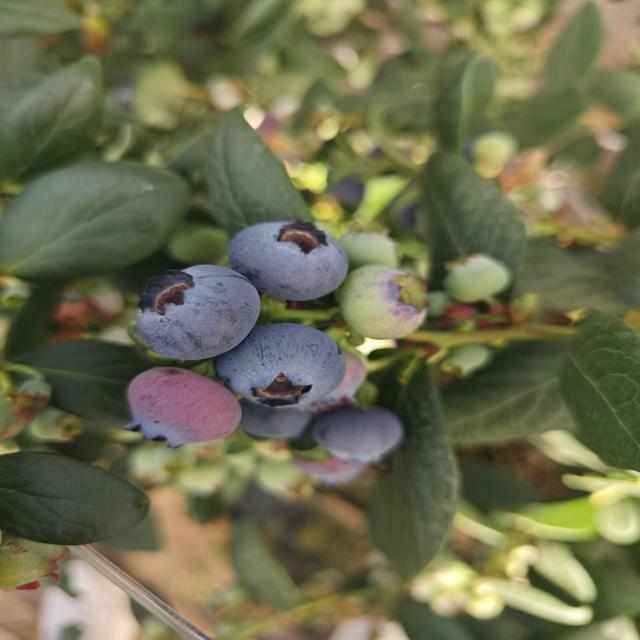ripe: (130, 266, 263, 361), (216, 324, 346, 410), (112, 364, 244, 448), (225, 215, 352, 302), (308, 406, 406, 467), (232, 398, 302, 452)
